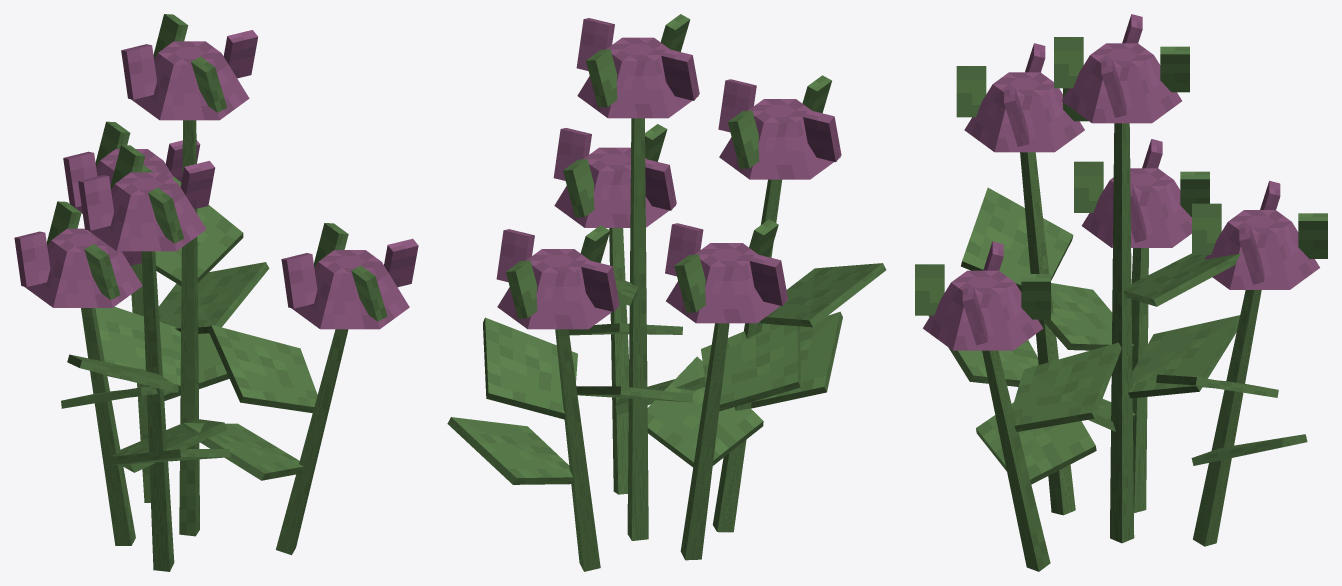
The model's file is f_burdock.glb.
The picture shows the model from 3 angles, left to right: view 1: azimuth 30°, elevation 25°; view 2: azimuth 150°, elevation 25°; view 3: azimuth 270°, elevation 25°; orthographic projection.
Parts seen in each view (by area): view 1: block_pointed-leaf (×10), block_bristled-bract (×18), block_stem-0, block_stem-1, block_flower-head-1, block_flower-head-3, block_flower-head-0, block_flower-head-4, block_stem-4, block_stem-3, block_stem-2, block_flower-head-2; view 2: block_pointed-leaf (×9), block_bristled-bract (×20), block_stem-0, block_flower-head-0, block_flower-head-2, block_flower-head-4, block_flower-head-1, block_stem-4, block_stem-2, block_flower-head-3, block_stem-3, block_stem-1; view 3: block_pointed-leaf (×9), block_bristled-bract (×14), block_stem-0, block_flower-head-0, block_flower-head-3, block_flower-head-1, block_flower-head-2, block_stem-2, block_flower-head-4, block_stem-3, block_stem-1, block_stem-4.
Part boxes in pixels (box(x1,y1,x2,y2)): block_pointed-leaf (×10): box(61, 176, 317, 480); block_bristled-bract (×18): box(14, 14, 418, 321); block_stem-0: box(179, 120, 199, 536); block_stem-1: box(141, 251, 174, 571); block_flower-head-1: box(88, 172, 206, 251); block_flower-head-3: box(291, 250, 409, 329); block_flower-head-0: box(131, 41, 249, 120); block_flower-head-4: box(24, 228, 142, 307); block_stem-4: box(81, 308, 135, 545); block_stem-3: box(276, 329, 348, 555); block_stem-2: box(131, 263, 150, 502); block_flower-head-2: box(74, 149, 173, 213); block_pointed-leaf (×9): box(447, 263, 886, 484); block_bristled-bract (×20): box(496, 14, 841, 318); block_stem-0: box(627, 118, 648, 540); block_flower-head-0: box(577, 37, 698, 118); block_flower-head-2: box(497, 249, 618, 329); block_flower-head-4: box(666, 243, 786, 323); block_flower-head-1: box(719, 99, 840, 179); block_stem-4: box(680, 323, 729, 560); block_stem-2: box(555, 329, 600, 571); block_flower-head-3: box(554, 147, 675, 227); block_stem-3: box(609, 228, 628, 494); block_stem-1: box(712, 179, 781, 532); block_pointed-leaf (×9): box(929, 187, 1307, 484); block_bristled-bract (×14): box(915, 37, 1327, 345); block_stem-0: box(1110, 123, 1134, 543); block_flower-head-0: box(1062, 43, 1181, 123); block_flower-head-3: box(923, 270, 1043, 350); block_flower-head-1: box(964, 72, 1084, 152); block_flower-head-2: box(1204, 210, 1319, 289); block_stem-2: box(1193, 290, 1261, 546); block_flower-head-4: box(1081, 168, 1191, 247); block_stem-3: box(982, 350, 1050, 571); block_stem-1: box(1020, 152, 1075, 515); block_stem-4: box(1131, 248, 1148, 512).
Size of the model in its own units: 0.5545 by 0.7996 by 0.601.
1 material, 1 textured.
